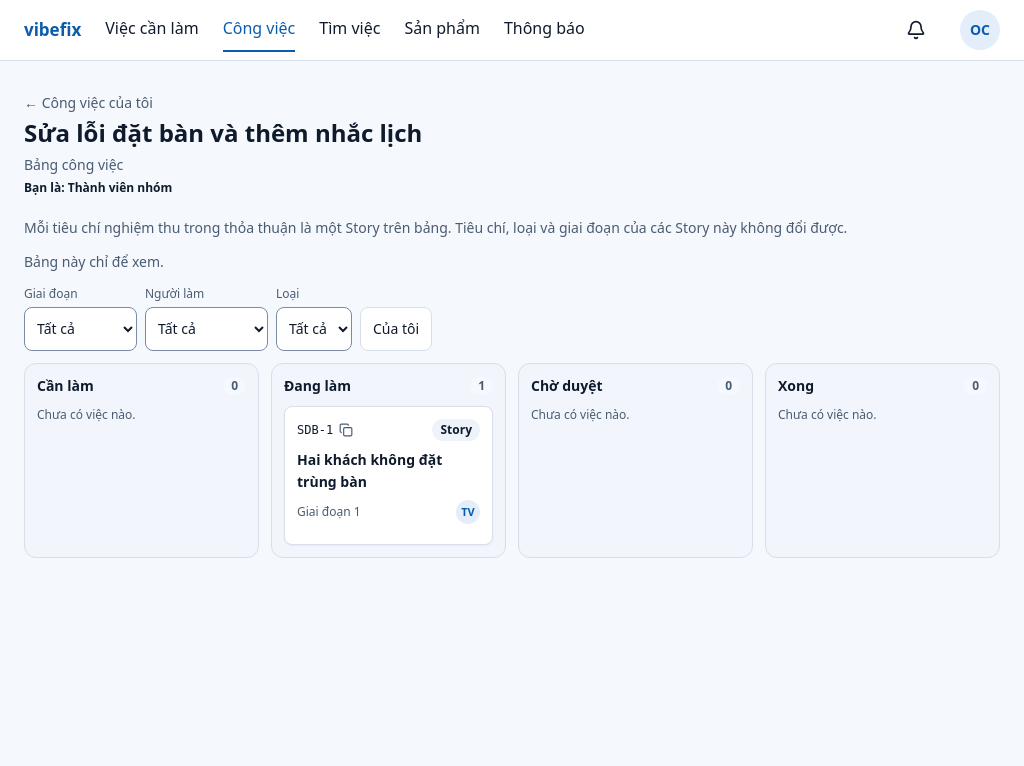
Attachments and notes on JOB-2 (FR-76, AD-39, UX-DR79) › offers nothing to write on a read-only Board
Click the button "Hai khách không đặt trùng bàn". click: (388, 471)
box: [297, 449, 480, 492]
(page scrolled)
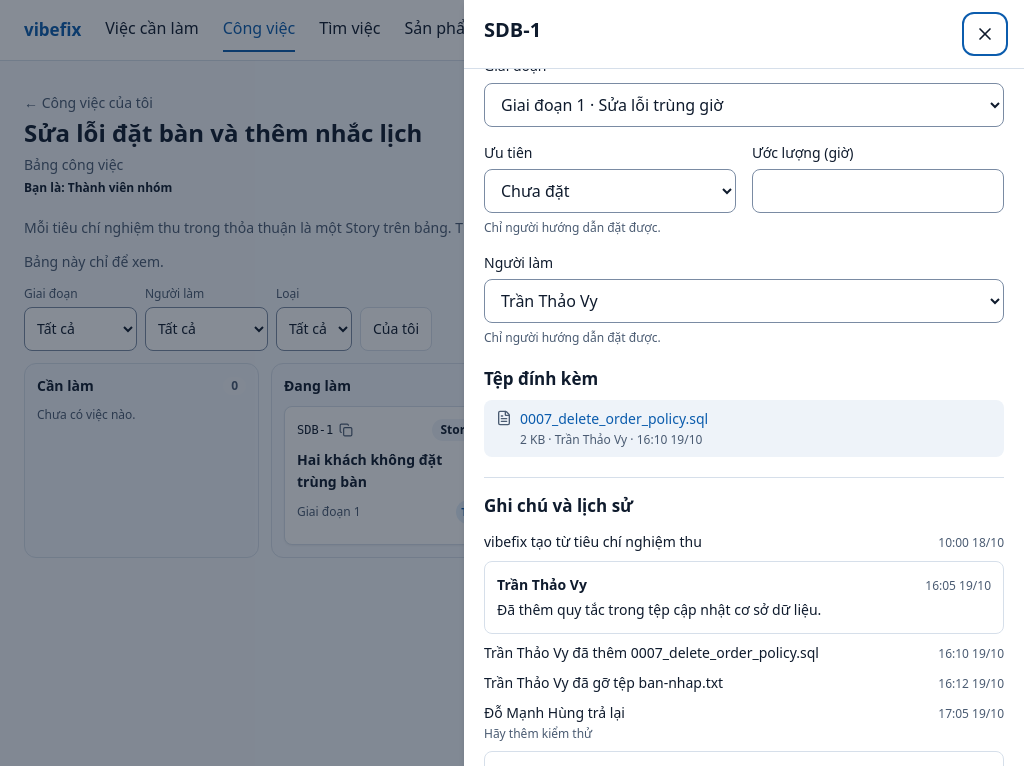
Now the link "0007_delete_order_policy.sql" is shown, box [520, 408, 708, 430]
